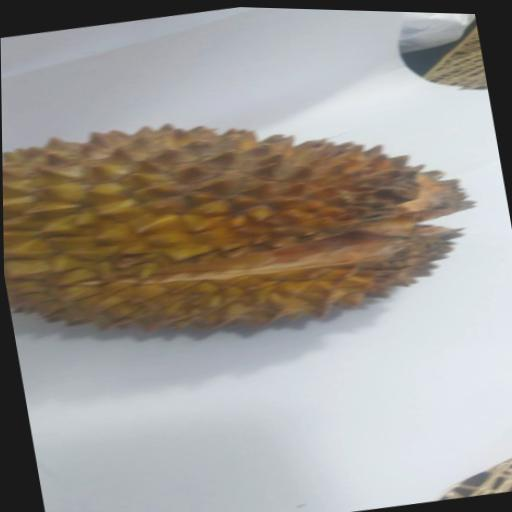rot: (1, 60, 508, 378)
